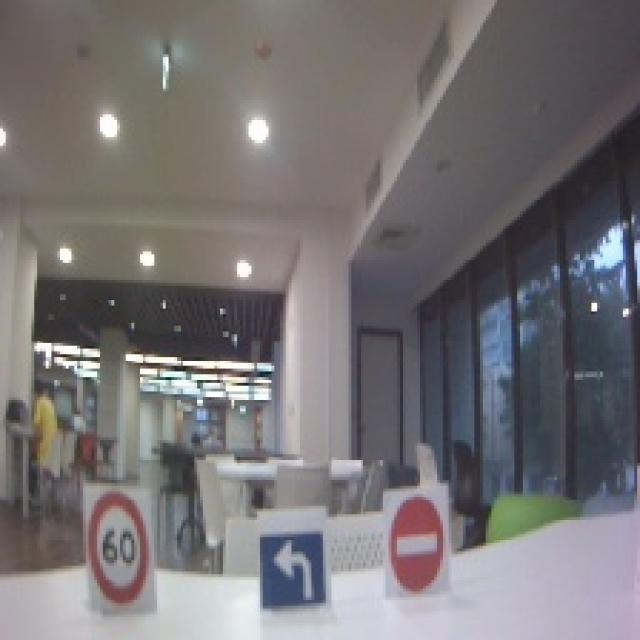DoNotEnterSign: (390, 496, 448, 595)
